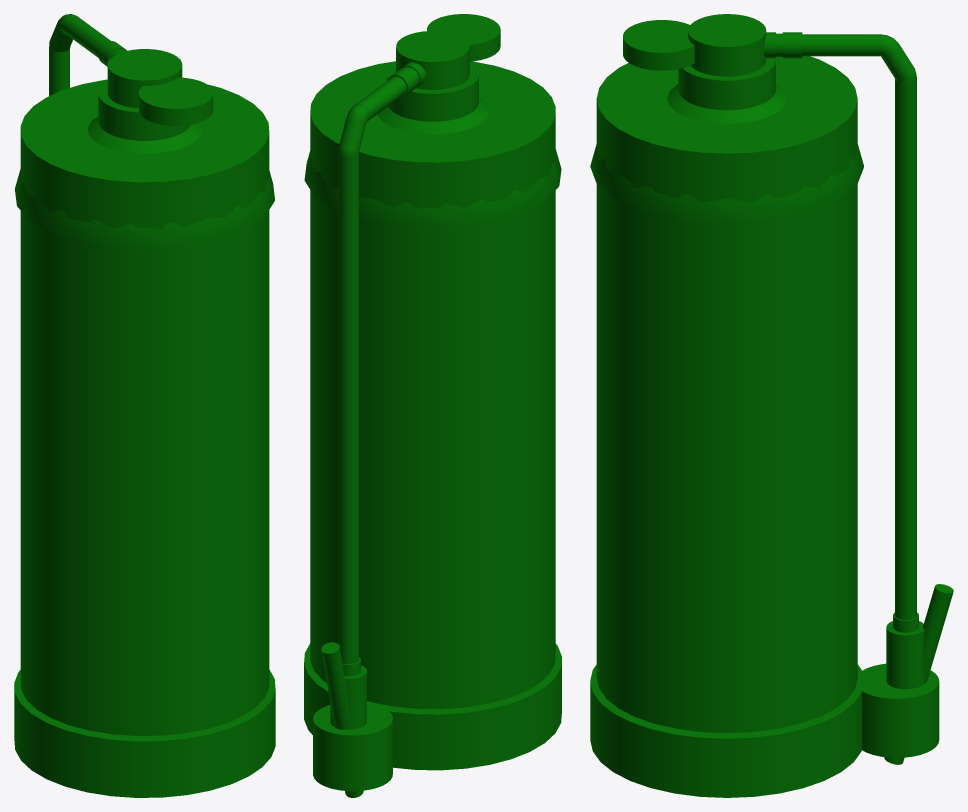
The model's file is Image-1710907701252-2280781604368_76-SE0602.fbx.
3 views of the same model, side by side, from view 1: azimuth 30°, elevation 25°; view 2: azimuth 150°, elevation 25°; view 3: azimuth 270°, elevation 25° (orthographic). The views are drawn at different scales.
Visible parts, largest first — view 1: CYLINDER 1 of EQUIPMENT /76-SE0602, CYLINDER 15 of EQUIPMENT /76-SE0602, DISH 1 of EQUIPMENT /76-SE0602, CYLINDER 3 of EQUIPMENT /76-SE0602, CYLINDER 4 of EQUIPMENT /76-SE0602, CYLINDER 2 of EQUIPMENT /76-SE0602, CYLINDER 7 of EQUIPMENT /76-SE0602, CYLINDER 6 of EQUIPMENT /76-SE0602; view 2: CYLINDER 1 of EQUIPMENT /76-SE0602, CYLINDER 15 of EQUIPMENT /76-SE0602, CYLINDER 6 of EQUIPMENT /76-SE0602, DISH 1 of EQUIPMENT /76-SE0602, CYLINDER 14 of EQUIPMENT /76-SE0602, CYLINDER 3 of EQUIPMENT /76-SE0602, CYLINDER 2 of EQUIPMENT /76-SE0602, CYLINDER 4 of EQUIPMENT /76-SE0602, CYLINDER 11 of EQUIPMENT /76-SE0602, CYLINDER 10 of EQUIPMENT /76-SE0602, CYLINDER 7 of EQUIPMENT /76-SE0602, CYLINDER 8 of EQUIPMENT /76-SE0602; view 3: CYLINDER 1 of EQUIPMENT /76-SE0602, CYLINDER 15 of EQUIPMENT /76-SE0602, CYLINDER 6 of EQUIPMENT /76-SE0602, DISH 1 of EQUIPMENT /76-SE0602, CYLINDER 14 of EQUIPMENT /76-SE0602, CYLINDER 3 of EQUIPMENT /76-SE0602, CYLINDER 2 of EQUIPMENT /76-SE0602, CYLINDER 4 of EQUIPMENT /76-SE0602, CYLINDER 10 of EQUIPMENT /76-SE0602, CYLINDER 7 of EQUIPMENT /76-SE0602, CYLINDER 11 of EQUIPMENT /76-SE0602, CYLINDER 8 of EQUIPMENT /76-SE0602.
Boxes of the visible parts, <box> form: CYLINDER 1 of EQUIPMENT /76-SE0602: <box>20,79,269,735</box>; CYLINDER 15 of EQUIPMENT /76-SE0602: <box>14,669,275,797</box>; DISH 1 of EQUIPMENT /76-SE0602: <box>15,116,274,249</box>; CYLINDER 3 of EQUIPMENT /76-SE0602: <box>107,49,182,108</box>; CYLINDER 4 of EQUIPMENT /76-SE0602: <box>139,77,213,125</box>; CYLINDER 2 of EQUIPMENT /76-SE0602: <box>98,81,190,140</box>; CYLINDER 7 of EQUIPMENT /76-SE0602: <box>62,15,110,57</box>; CYLINDER 6 of EQUIPMENT /76-SE0602: <box>49,49,69,95</box>; CYLINDER 1 of EQUIPMENT /76-SE0602: <box>310,61,555,709</box>; CYLINDER 15 of EQUIPMENT /76-SE0602: <box>304,643,561,770</box>; CYLINDER 6 of EQUIPMENT /76-SE0602: <box>338,154,358,664</box>; DISH 1 of EQUIPMENT /76-SE0602: <box>304,97,561,228</box>; CYLINDER 14 of EQUIPMENT /76-SE0602: <box>313,705,392,791</box>; CYLINDER 3 of EQUIPMENT /76-SE0602: <box>396,31,469,89</box>; CYLINDER 2 of EQUIPMENT /76-SE0602: <box>387,63,478,121</box>; CYLINDER 4 of EQUIPMENT /76-SE0602: <box>427,14,500,61</box>; CYLINDER 11 of EQUIPMENT /76-SE0602: <box>321,642,363,797</box>; CYLINDER 10 of EQUIPMENT /76-SE0602: <box>330,665,366,729</box>; CYLINDER 7 of EQUIPMENT /76-SE0602: <box>352,76,406,120</box>; CYLINDER 8 of EQUIPMENT /76-SE0602: <box>338,119,365,152</box>; CYLINDER 1 of EQUIPMENT /76-SE0602: <box>596,56,857,732</box>; CYLINDER 15 of EQUIPMENT /76-SE0602: <box>590,664,863,797</box>; CYLINDER 6 of EQUIPMENT /76-SE0602: <box>895,79,916,619</box>; DISH 1 of EQUIPMENT /76-SE0602: <box>590,84,863,224</box>; CYLINDER 14 of EQUIPMENT /76-SE0602: <box>856,663,939,757</box>; CYLINDER 3 of EQUIPMENT /76-SE0602: <box>688,14,766,76</box>; CYLINDER 2 of EQUIPMENT /76-SE0602: <box>678,58,775,110</box>; CYLINDER 4 of EQUIPMENT /76-SE0602: <box>623,20,694,70</box>; CYLINDER 10 of EQUIPMENT /76-SE0602: <box>886,621,924,689</box>; CYLINDER 7 of EQUIPMENT /76-SE0602: <box>802,34,881,56</box>; CYLINDER 11 of EQUIPMENT /76-SE0602: <box>884,584,953,764</box>; CYLINDER 8 of EQUIPMENT /76-SE0602: <box>881,45,915,80</box>.
Size of the model in its own units: 0.21 by 0.2787 by 0.6189.
